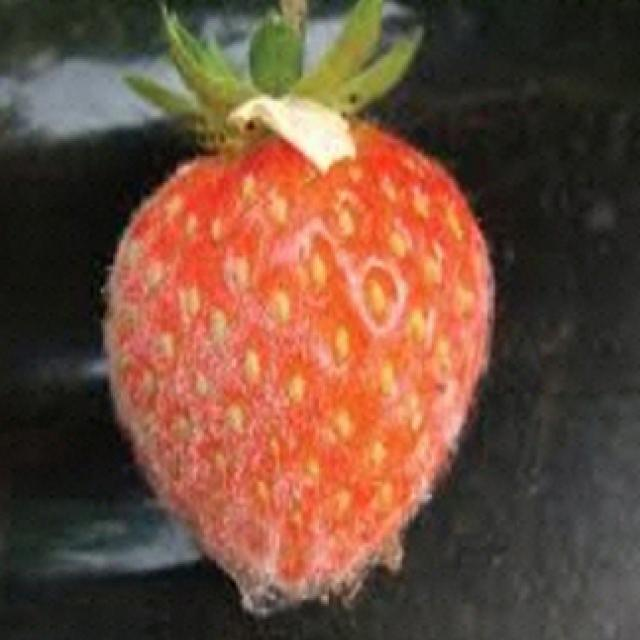Powdery Mildew Fruit: (105, 119, 499, 606)
